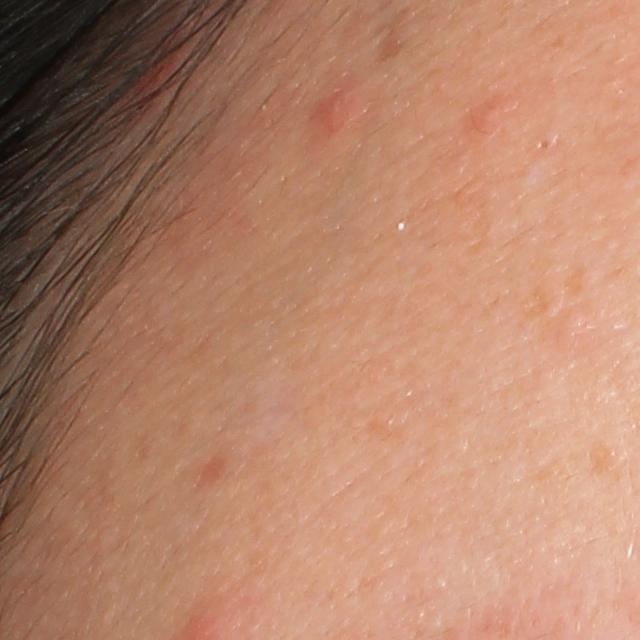melasma: (584, 438, 619, 485)
papule: (462, 87, 524, 144), (315, 88, 359, 143), (139, 36, 181, 92)
